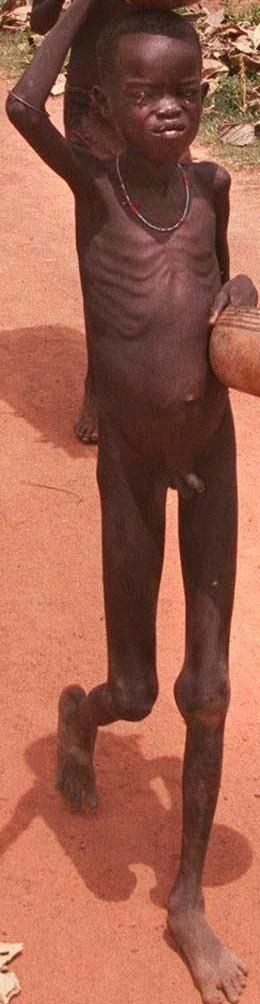Stunting: (68, 0, 258, 212)
